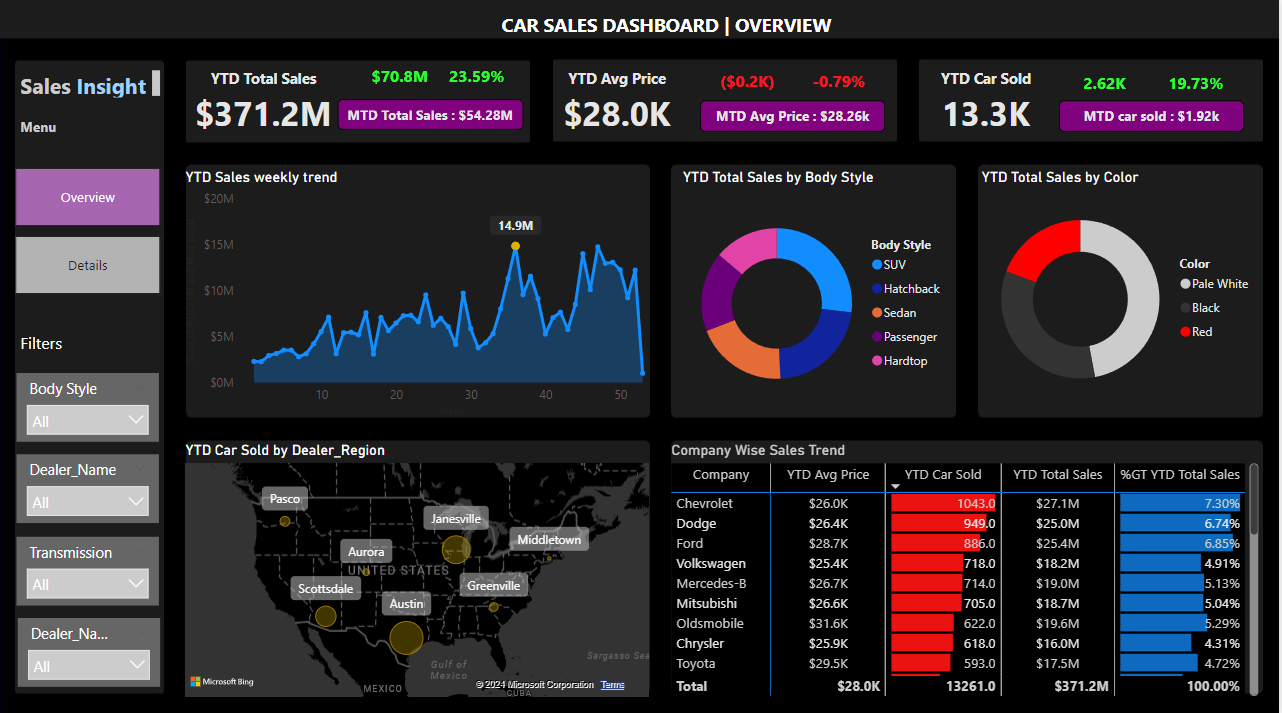

What the dashboard file says about the page in this screenshot:
{"tool":"powerbi","page":{"name":"Overview","canvas":[1280,720],"ordinal":0},"visuals":[{"type":"card","title":"YTD Total Sales","fields":{"Values":["car_data.YTD Total Sales"]},"box":[181,70,166.5,71.2],"z":0},{"type":"card","fields":{"Values":["car_data.Sales Difference"]},"box":[355.4,60.4,91.9,41.2],"z":1000},{"type":"card","fields":{"Values":["car_data.YOY Sales Growth"]},"box":[432.2,60.4,90.6,41.2],"z":2000},{"type":"card","fields":{"Values":["car_data.MTD KPI"]},"box":[338.9,101.5,185.2,30.2],"z":3000},{"type":"card","title":"YTD Avg Price","fields":{"Values":["car_data.YTD Avg Price"]},"box":[535.2,70,166,71.4],"z":4000},{"type":"card","fields":{"Values":["car_data.Avg Price Difference"]},"box":[702.1,65.1,91.7,41],"z":5000},{"type":"card","fields":{"Values":["car_data.YOY Avg Price growth"]},"box":[793.8,65.1,91.7,41],"z":6000},{"type":"card","fields":{"Values":["car_data.MTD Avg Price KPI"]},"box":[701.8,102.4,185,30.8],"z":7000},{"type":"card","title":"YTD Car Sold","fields":{"Values":["car_data.YTD Car Sold"]},"box":[903.6,70,166.5,71.2],"z":8000},{"type":"card","fields":{"Values":["car_data.Car Sold Difference"]},"box":[1060,66.2,91.2,41.2],"z":9000},{"type":"card","fields":{"Values":["car_data.YOY Car Sold growth"]},"box":[1151.2,66.2,91.2,41.2],"z":10000},{"type":"card","fields":{"Values":["car_data.MTD Car Sold KPI"]},"box":[1060,102.5,185,31.2],"z":11000},{"type":"areaChart","title":"YTD Sales weekly trend","fields":{"Category":["Calendar Table.Week"],"Y":["Sum(car_data.Price ($))","car_data.Max point"]},"box":[181,170.1,485.1,254.6],"z":12000},{"type":"donutChart","fields":{"Category":["car_data.Body Style"],"Y":["car_data.YTD Total Sales"]},"box":[678.1,170.1,276.3,254.6],"z":13000},{"type":"donutChart","fields":{"Y":["car_data.YTD Total Sales"],"Category":["car_data.Color"]},"box":[977.4,170.1,286,246.2],"z":14000},{"type":"map","fields":{"Category":["car_data.Dealer_Region"],"Size":["car_data.YTD Car Sold"]},"box":[181,444,474.1,259.4],"z":15000},{"type":"pivotTable","title":"Company Wise Sales Trend","fields":{"Rows":["car_data.Company"],"Values":["car_data.YTD Avg Price","car_data.YTD Car Sold","car_data.YTD Total Sales1","car_data.YTD Total Sales"]},"box":[667.2,444,597.2,259.4],"z":16000},{"type":"textbox","box":[497.1,8.4,388.5,39.8],"z":17000},{"type":"slicer","fields":{"Values":["car_data.Body Style"]},"box":[18.1,375.2,142.4,68.8],"z":18000},{"type":"slicer","fields":{"Values":["car_data.Dealer_Name"]},"box":[18.1,456,142.4,68.8],"z":19000},{"type":"slicer","fields":{"Values":["car_data.Transmission"]},"box":[18.1,539.3,142.4,68.8],"z":20000},{"type":"slicer","fields":{"Values":["car_data.Dealer_Name","car_data.Engine"]},"box":[19.3,620.1,142.4,68.8],"z":21000},{"type":"textbox","box":[15.7,328.2,73.6,31.4],"z":22000},{"type":"textbox","box":[15.7,67.6,149.6,37.4],"z":22001},{"type":"textbox","box":[15.7,114.6,57.9,35],"z":22002},{"type":"pageNavigator","box":[15.7,170.1,146,127.9],"z":22003}]}

Visuals, with their boxes in screenshot pixels (x1, y1, x2, y2), scaled from the page's 1280x720 canvas onto the 1282x713 screenshot:
"YTD Total Sales" card: bbox(181, 69, 348, 140)
card - car_data.Sales Difference: bbox(356, 60, 448, 101)
card - car_data.YOY Sales Growth: bbox(433, 60, 524, 101)
card - car_data.MTD KPI: bbox(339, 101, 525, 130)
"YTD Avg Price" card: bbox(536, 69, 702, 140)
card - car_data.Avg Price Difference: bbox(703, 64, 795, 105)
card - car_data.YOY Avg Price growth: bbox(795, 64, 887, 105)
card - car_data.MTD Avg Price KPI: bbox(703, 101, 888, 132)
"YTD Car Sold" card: bbox(905, 69, 1072, 140)
card - car_data.Car Sold Difference: bbox(1062, 66, 1153, 106)
card - car_data.YOY Car Sold growth: bbox(1153, 66, 1244, 106)
card - car_data.MTD Car Sold KPI: bbox(1062, 102, 1247, 132)
"YTD Sales weekly trend" areaChart: bbox(181, 168, 667, 421)
donutChart - car_data.Body Style x car_data.YTD Total Sales: bbox(679, 168, 956, 421)
donutChart - car_data.YTD Total Sales x car_data.Color: bbox(979, 168, 1265, 412)
map - car_data.Dealer_Region x car_data.YTD Car Sold: bbox(181, 440, 656, 697)
"Company Wise Sales Trend" pivotTable: bbox(668, 440, 1266, 697)
textbox: bbox(498, 8, 887, 48)
slicer - car_data.Body Style: bbox(18, 372, 161, 440)
slicer - car_data.Dealer_Name: bbox(18, 452, 161, 520)
slicer - car_data.Transmission: bbox(18, 534, 161, 602)
slicer - car_data.Dealer_Name x car_data.Engine: bbox(19, 614, 162, 682)
textbox: bbox(16, 325, 89, 356)
textbox: bbox(16, 67, 166, 104)
textbox: bbox(16, 113, 74, 148)
pageNavigator: bbox(16, 168, 162, 295)
